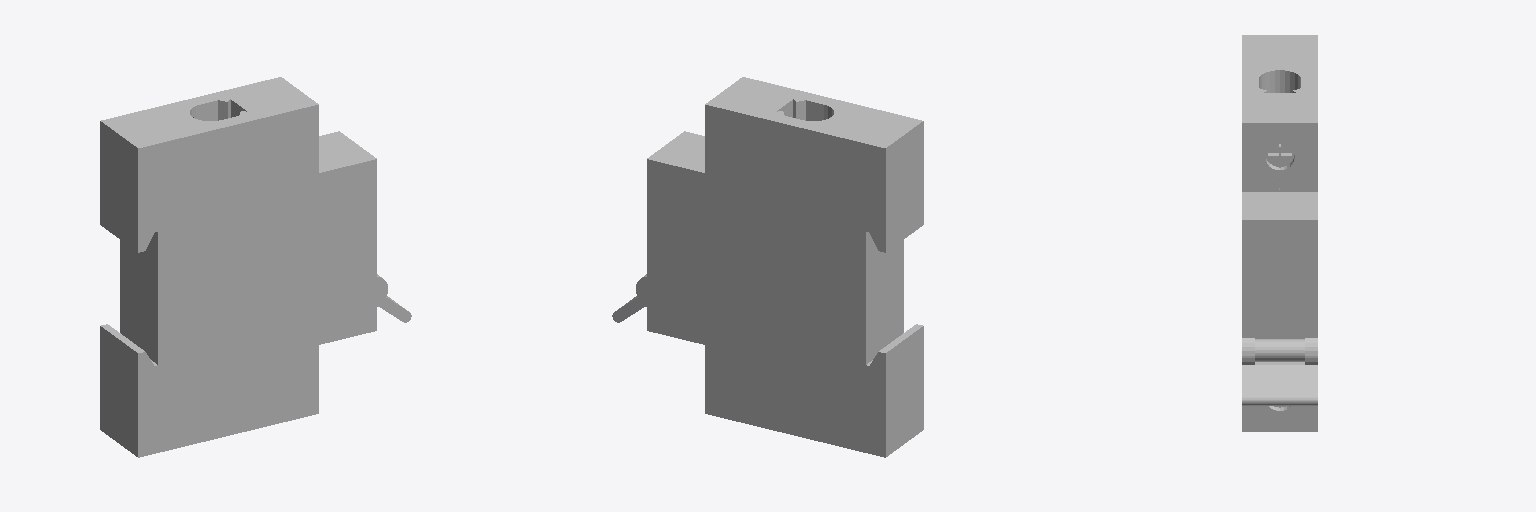
3 renders of one model, left to right at view 1: azimuth 30°, elevation 25°; view 2: azimuth 150°, elevation 25°; view 3: azimuth 270°, elevation 25°, orthographic.
Visible parts, largest first — view 1: C65N_1P0_displacement2_Untitled; view 2: C65N_1P0_displacement2_Untitled; view 3: C65N_1P0_displacement2_Untitled.
Part boxes in pixels (x1,y1,x2,y2): C65N_1P0_displacement2_Untitled: (100, 77, 411, 457); C65N_1P0_displacement2_Untitled: (612, 77, 923, 457); C65N_1P0_displacement2_Untitled: (1242, 35, 1317, 431).
Bounding box in the file's own units: 0.0749 × 0.081 × 0.018.